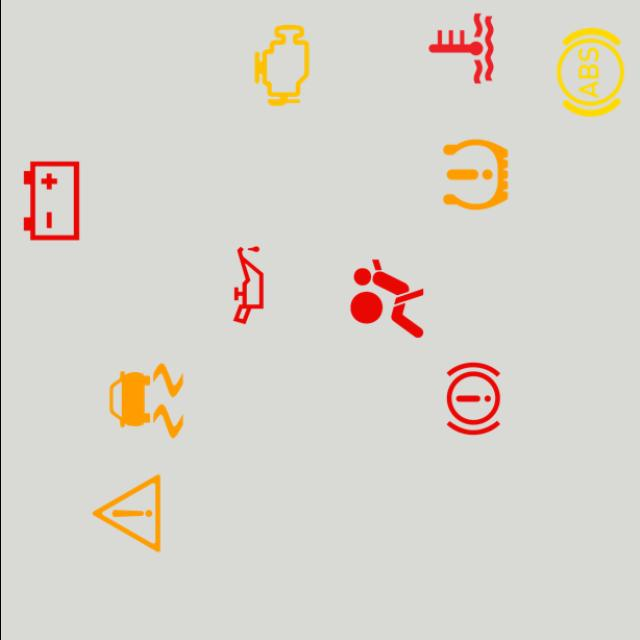Anti Lock Braking System: (541, 24, 638, 121)
Braking System Issue: (424, 350, 521, 447)
Charging System Issue: (2, 152, 99, 249)
Check Engine: (232, 17, 330, 114)
Electronic Stability Problem -ESP-: (97, 352, 194, 450)
Engine Overheating Warning Light: (412, 0, 508, 97)
Low Engine Oil Warning Light: (199, 236, 296, 334)
Low Tire Pressure Warning Light: (426, 126, 524, 223)
Master warning light: (77, 465, 174, 562)
SRS-Airbag: (338, 250, 434, 347)
